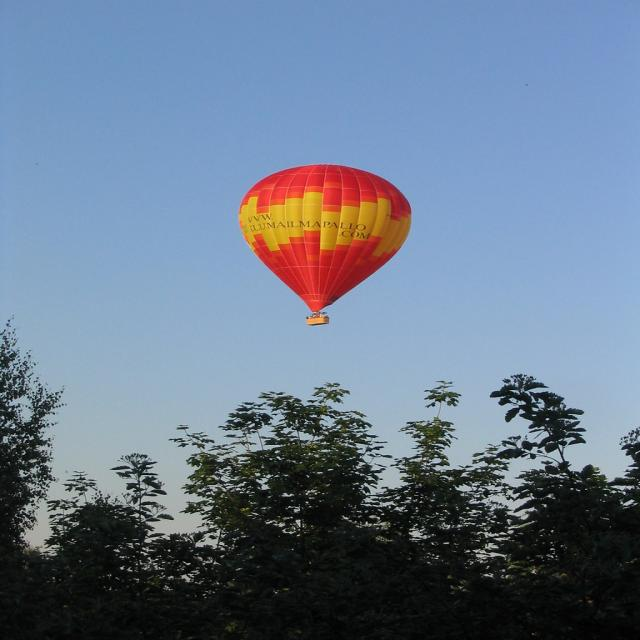balloon: (238, 164, 413, 326)
